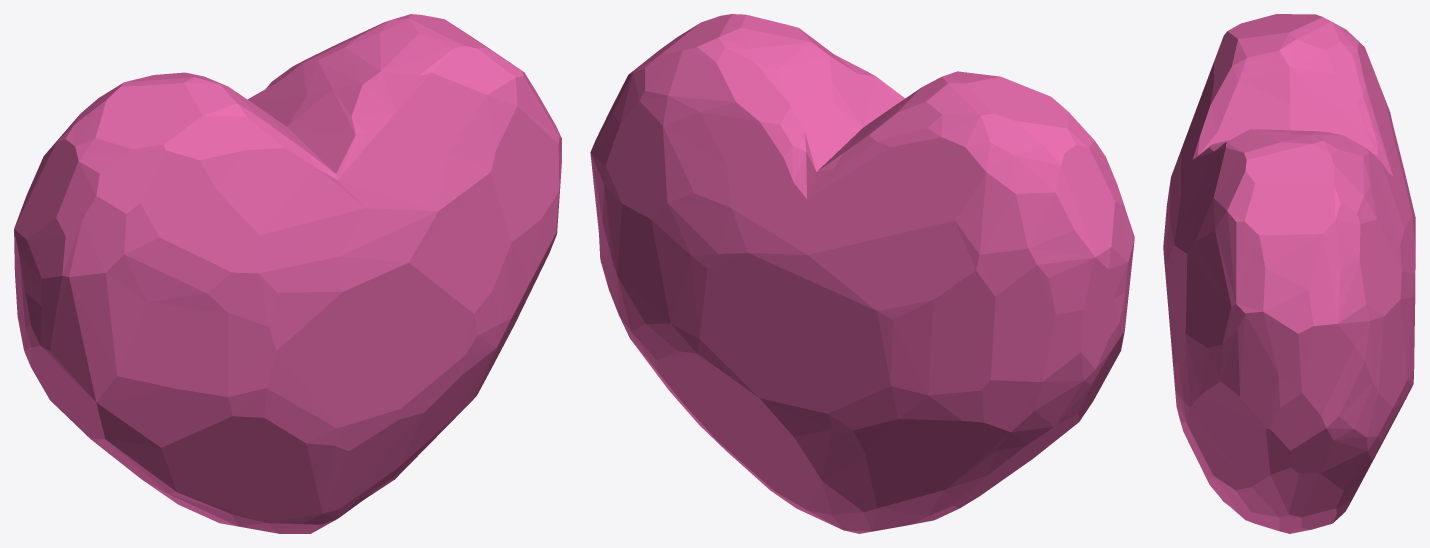
Rendered from hart.gltf.
3 renders of one model, left to right at view 1: azimuth 30°, elevation 25°; view 2: azimuth 150°, elevation 25°; view 3: azimuth 270°, elevation 25°, orthographic. The views are drawn at different scales.
Parts seen in each view (by area): view 1: Crystal_Heart; view 2: Crystal_Heart; view 3: Crystal_Heart.
Part boxes in pixels (x1,y1,x2,y2): Crystal_Heart: (14,14,561,533); Crystal_Heart: (590,14,1134,533); Crystal_Heart: (1163,14,1415,533).
Size of what is drawn, in the model's own units: 0.8738 by 0.7542 by 0.391.
